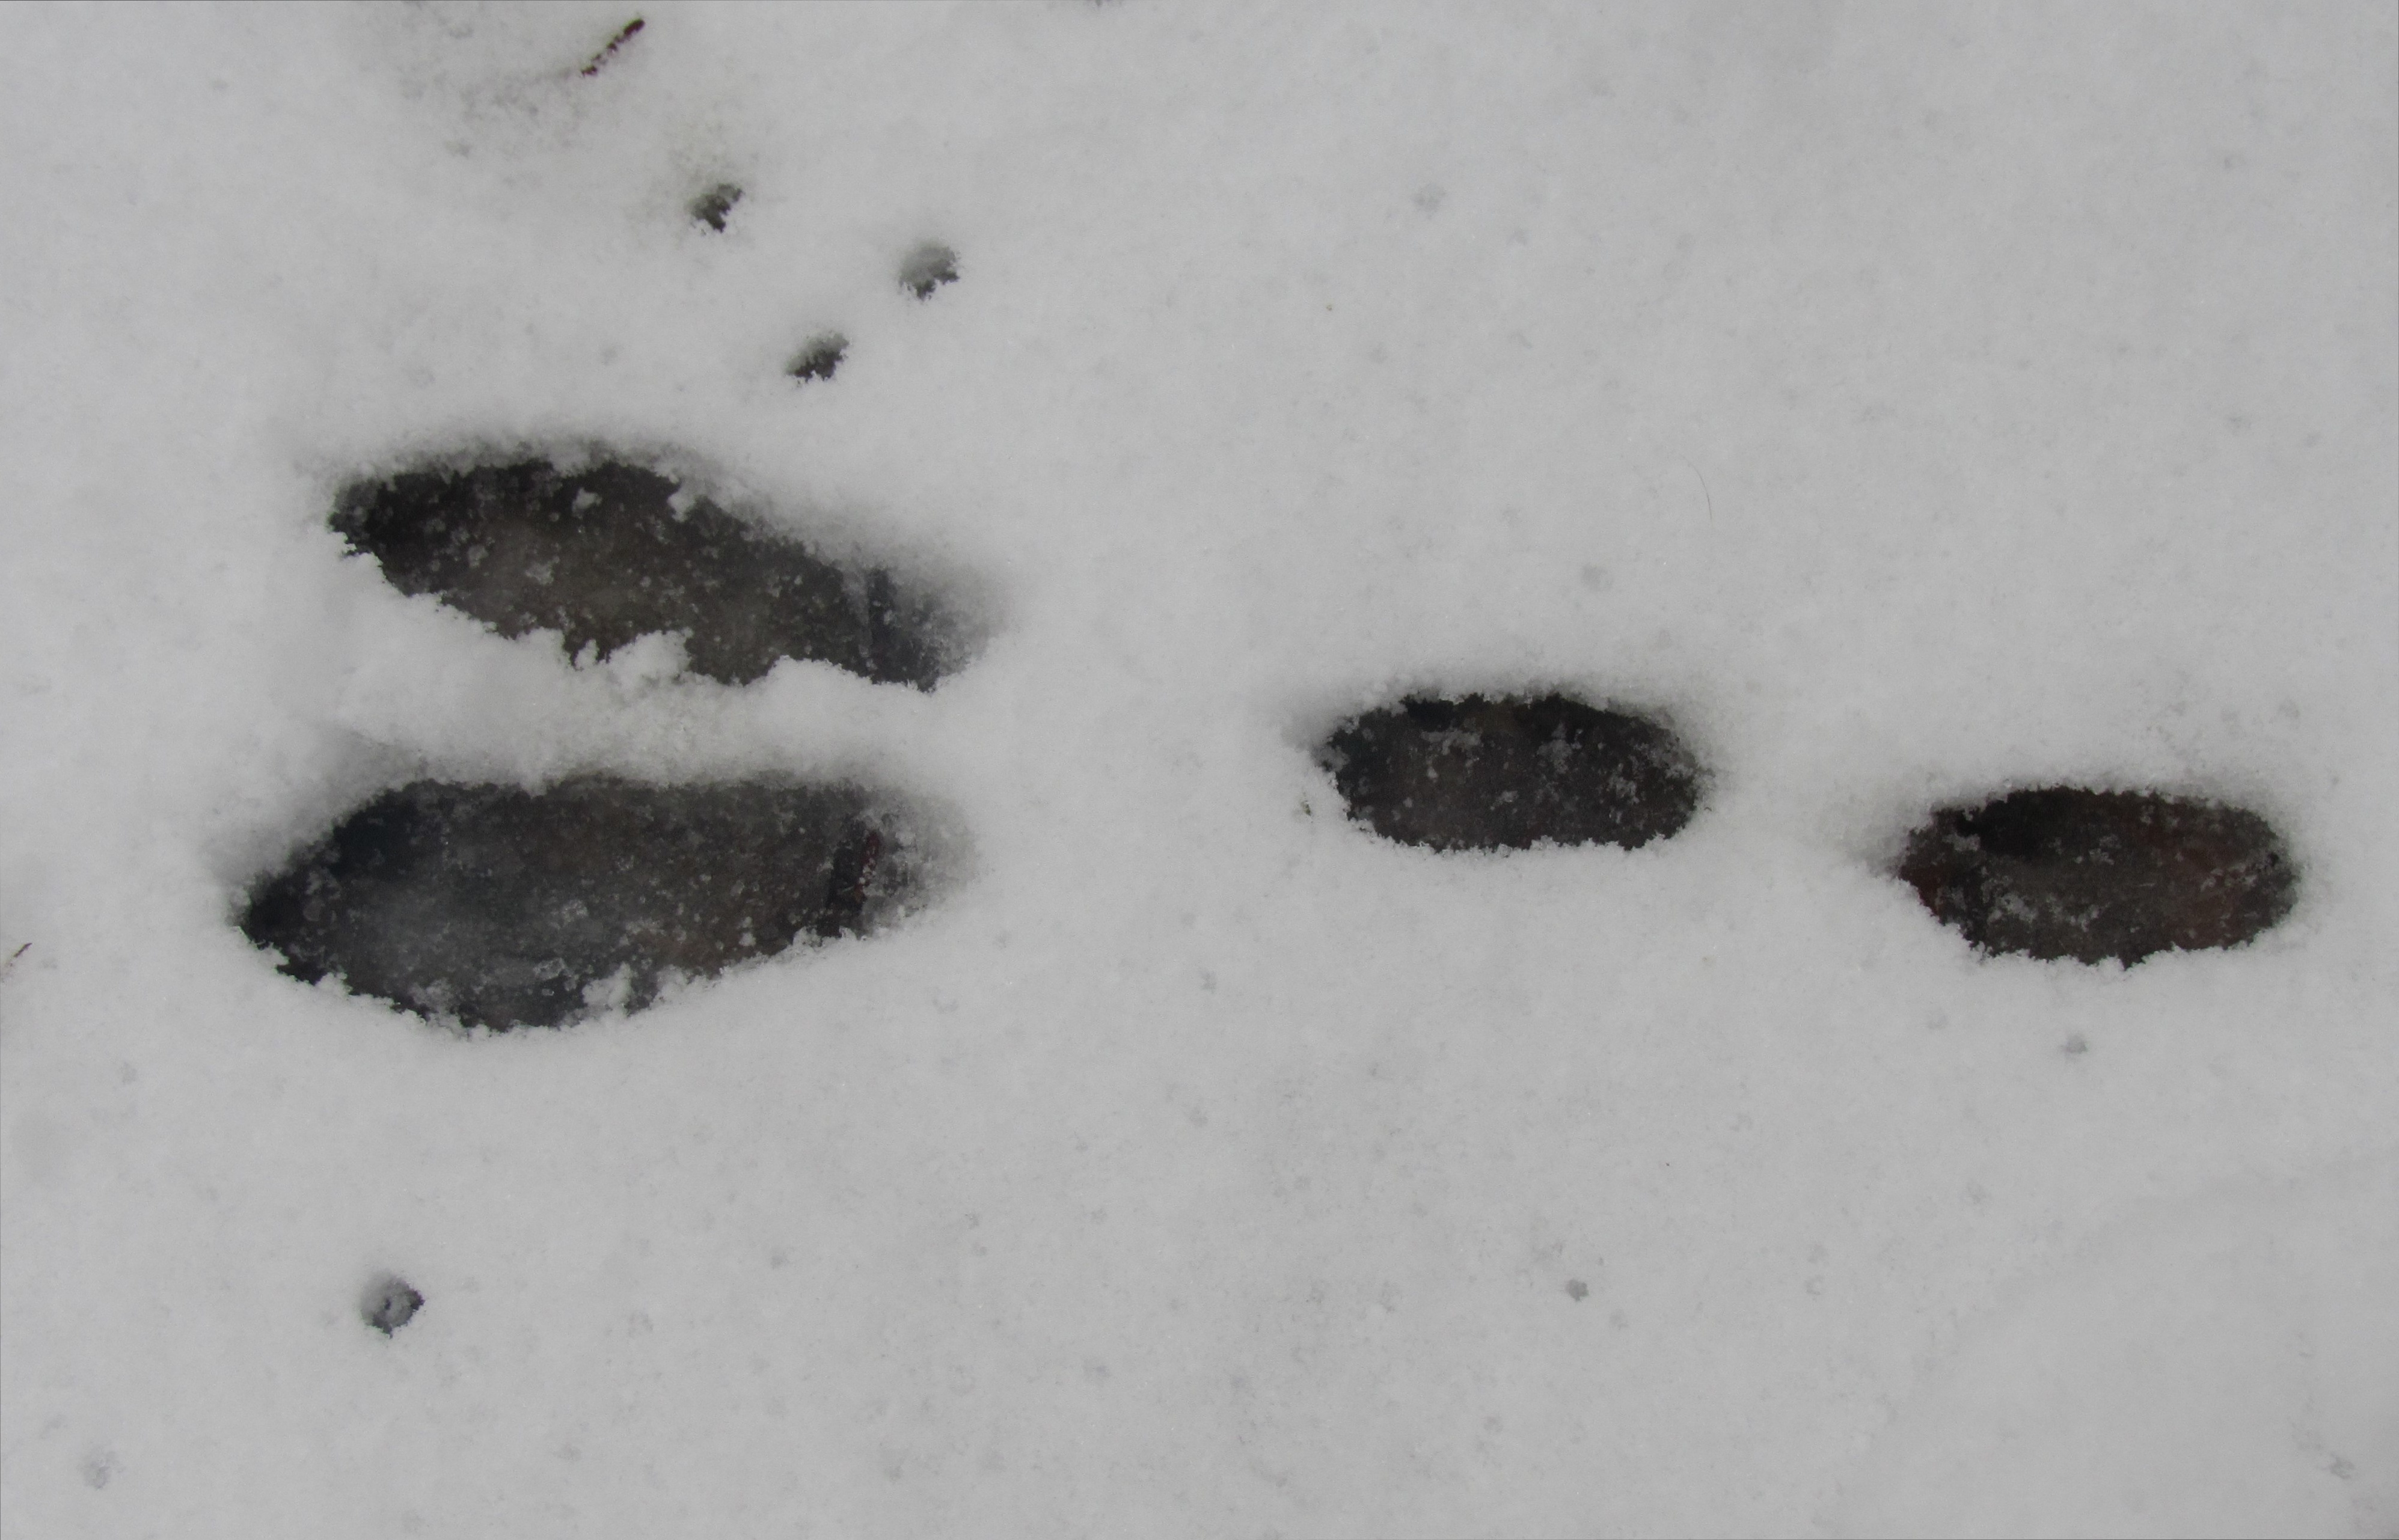rabbit: (100, 357, 2348, 1129)
